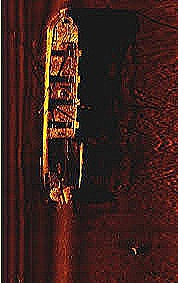ship: (37, 5, 82, 208)
